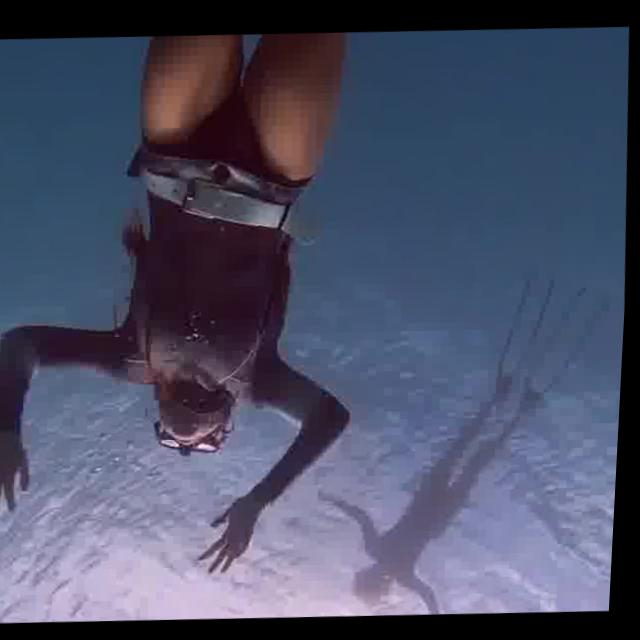human: (0, 26, 382, 598), (304, 366, 558, 618)
